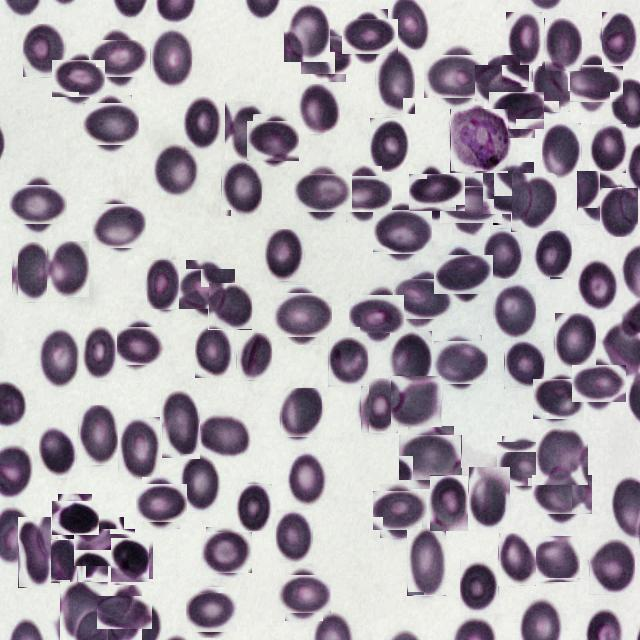red blood cell: (404, 430, 458, 485), (536, 428, 588, 485), (429, 50, 483, 104), (284, 1, 330, 62), (60, 582, 108, 640), (161, 389, 200, 459), (511, 173, 557, 232), (376, 206, 428, 258), (276, 289, 328, 341), (488, 168, 540, 220), (118, 417, 160, 481), (407, 528, 446, 596), (38, 328, 80, 390), (391, 377, 442, 428), (589, 539, 635, 595), (375, 50, 415, 114), (398, 274, 449, 324), (150, 29, 192, 89), (86, 98, 136, 148), (568, 58, 618, 108), (446, 180, 496, 230), (499, 438, 549, 488), (537, 470, 587, 520), (94, 200, 144, 250), (390, 331, 432, 390), (469, 467, 510, 527), (94, 34, 144, 83), (13, 180, 62, 230), (436, 338, 485, 388), (80, 523, 130, 572), (439, 250, 488, 300), (78, 405, 118, 466), (12, 242, 52, 303), (577, 171, 622, 225), (182, 264, 230, 314), (154, 142, 198, 196), (493, 284, 536, 339), (22, 23, 65, 78), (554, 313, 596, 369), (47, 241, 89, 297), (18, 517, 51, 588), (180, 454, 220, 512), (225, 102, 265, 160), (531, 535, 579, 583), (300, 169, 348, 217), (199, 412, 249, 458), (221, 161, 262, 217), (493, 86, 540, 134), (542, 123, 581, 180), (353, 291, 400, 338), (414, 169, 461, 216), (376, 488, 424, 534), (250, 117, 296, 164), (578, 258, 618, 312), (360, 378, 398, 434), (430, 474, 468, 530), (264, 229, 304, 282), (138, 480, 184, 526), (204, 530, 250, 576), (536, 376, 582, 422), (304, 32, 350, 78), (576, 361, 622, 407), (281, 571, 327, 617), (189, 590, 235, 636), (341, 171, 387, 217), (115, 323, 161, 369), (347, 14, 393, 60), (479, 60, 525, 106), (298, 84, 340, 134), (280, 388, 322, 438), (287, 452, 325, 507), (208, 283, 252, 330), (195, 325, 234, 378), (370, 118, 408, 172), (544, 18, 582, 72), (102, 590, 148, 634), (460, 560, 498, 613), (498, 533, 536, 586), (328, 336, 368, 386), (275, 510, 312, 564), (602, 12, 639, 66), (56, 56, 101, 100), (532, 61, 570, 113), (506, 12, 542, 66), (81, 326, 117, 380), (504, 341, 544, 389), (484, 229, 522, 279), (534, 230, 572, 280), (600, 186, 638, 236), (39, 427, 76, 478), (589, 122, 626, 172), (184, 98, 218, 152), (236, 333, 272, 381), (110, 539, 151, 581), (236, 484, 272, 531), (54, 498, 96, 538), (45, 539, 82, 584), (146, 260, 179, 310)
trophozoite: (450, 109, 508, 172)
